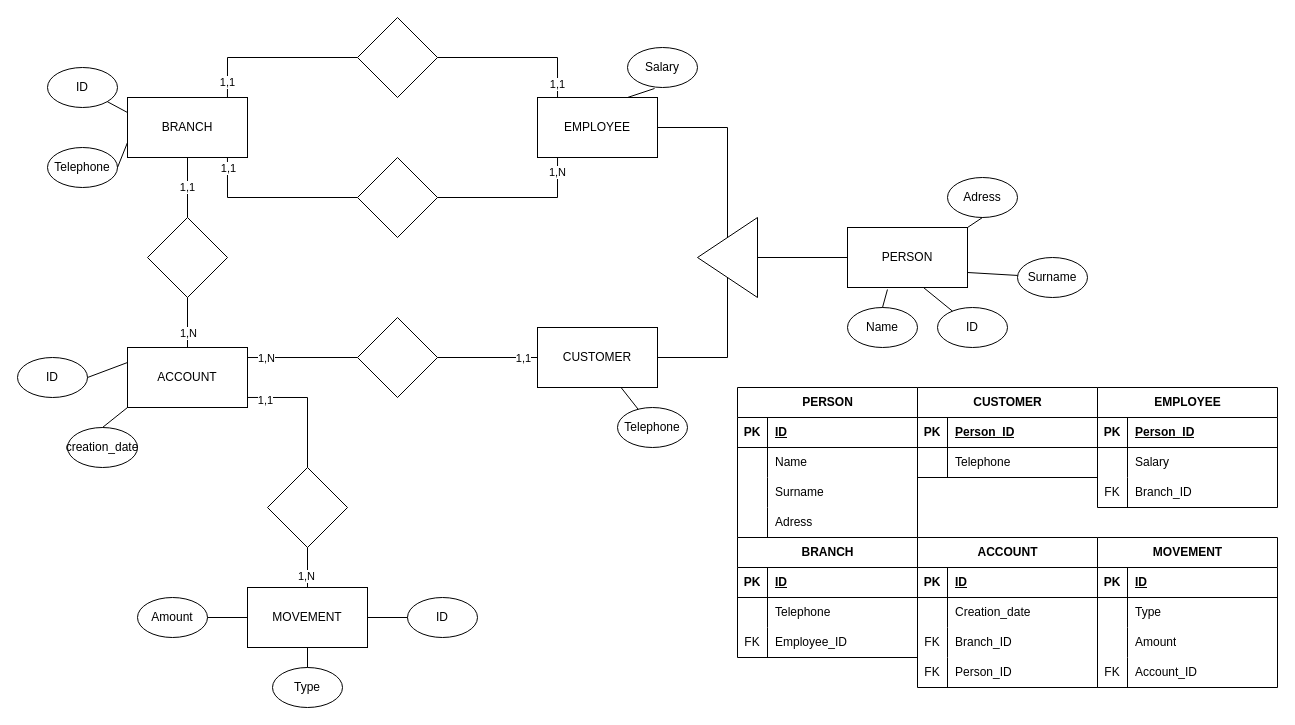
The diagram is 1295 pixels wide and 725 high, and some of its shapes have lost their labels. The shapes that lost their labels are listed below. From the top down, each one's box as (x1, y1, x2, y2) in pixels, then its label:
(356, 16, 438, 98): MANAGES 1:1
(356, 156, 438, 238): WORKS 1:N
(146, 216, 228, 298): LOCATED 1:N
(356, 316, 438, 398): OWNS 1:N
(266, 466, 348, 548): HAS 1:N
